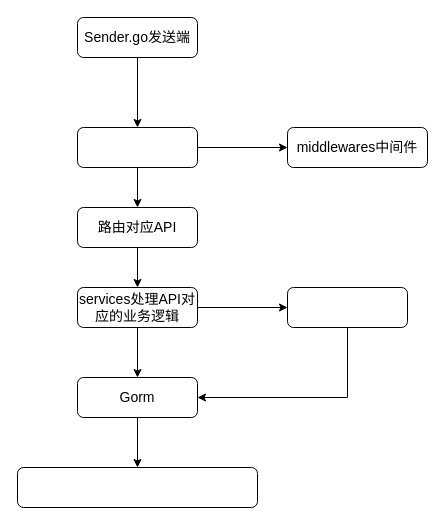
This 445x525 diagram has some shape labels left out. Here are the shapes that lost their labels. From the top down, the centre of each, then its label:
(x=137, y=147): routers匹配路由
(x=347, y=307): models 操作数据库封装公共功能
(x=137, y=487): DB
